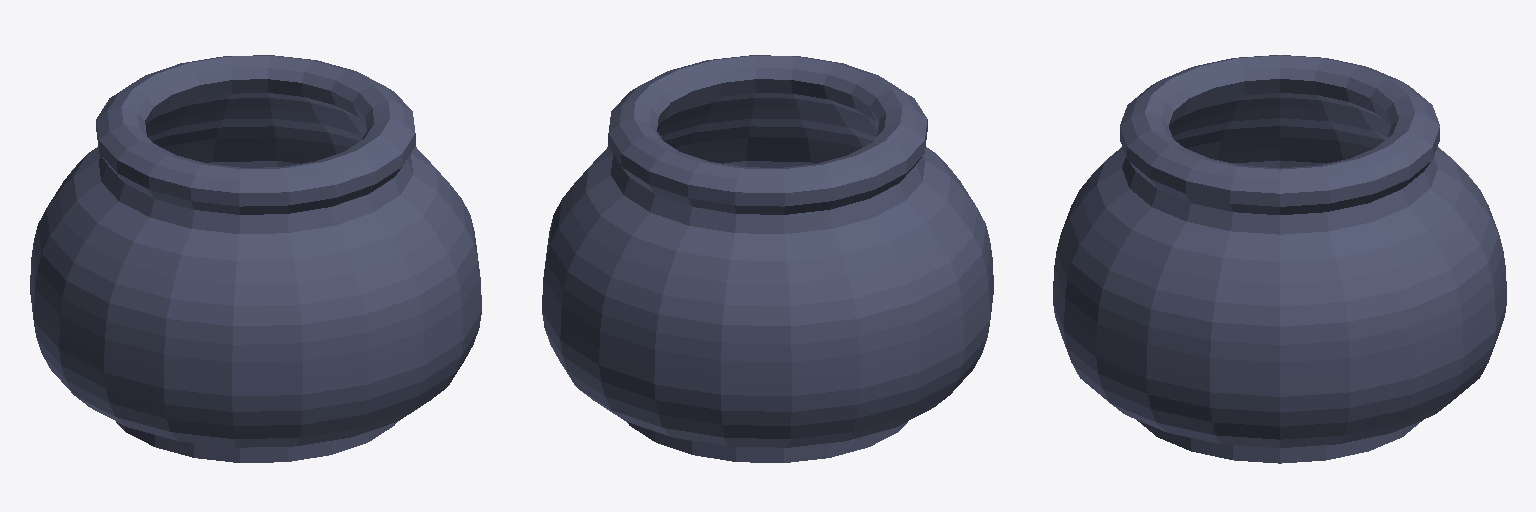
Rendered from FishInFishBowl.obj.
3 renders of one model, left to right at view 1: azimuth 30°, elevation 25°; view 2: azimuth 150°, elevation 25°; view 3: azimuth 270°, elevation 25°, orthographic.
Visible parts, largest first — view 1: Bowl; view 2: Bowl; view 3: Bowl.
Part boxes in pixels (x1,y1,x2,y2): Bowl: (30,55,481,462); Bowl: (542,55,993,462); Bowl: (1053,55,1506,463).
Bounding box in the file's own units: 15.24 × 10.61 × 15.24.